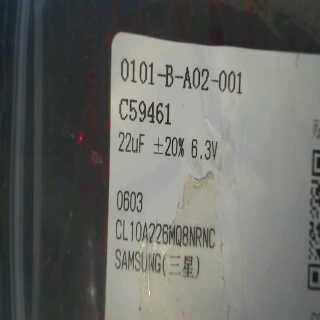22uF: (115, 129, 149, 156)
